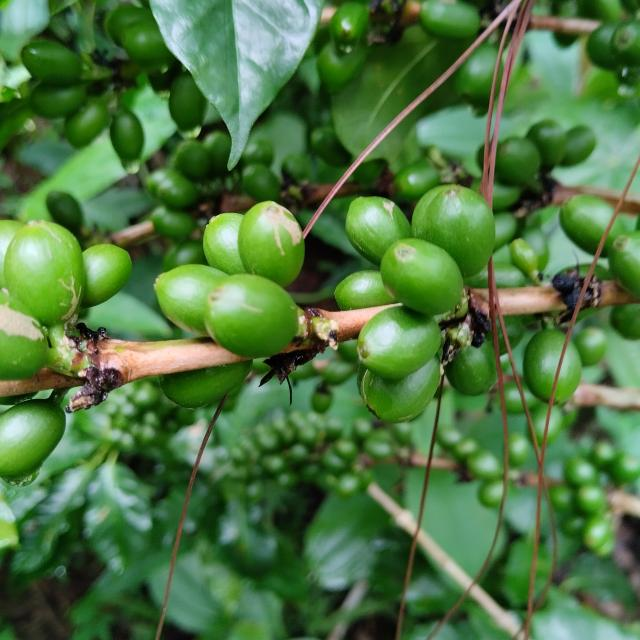green: (3, 221, 84, 327), (204, 274, 298, 358), (412, 184, 496, 277), (380, 238, 464, 315), (358, 306, 442, 380), (238, 201, 305, 287), (0, 399, 65, 485), (361, 355, 441, 423), (154, 264, 228, 336), (346, 196, 412, 266), (158, 360, 252, 409), (0, 290, 47, 381), (80, 244, 131, 308), (524, 330, 567, 402), (445, 340, 498, 396), (203, 212, 246, 275), (335, 270, 396, 311), (555, 341, 583, 404)
